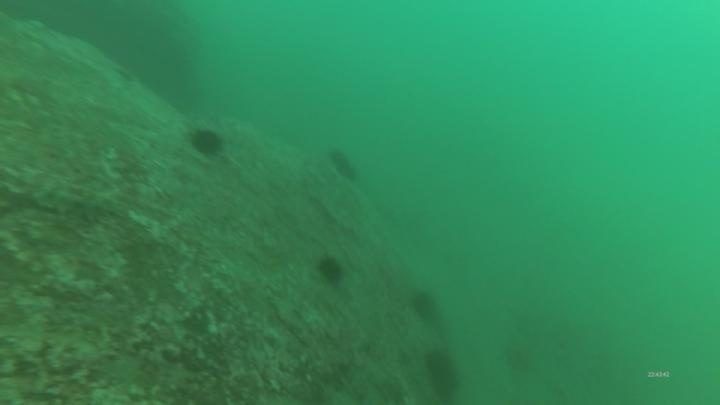echinus: (421, 346, 464, 404), (326, 146, 361, 185), (187, 125, 226, 159), (313, 252, 348, 288), (407, 287, 441, 321)
holothurian: (29, 180, 122, 223)
